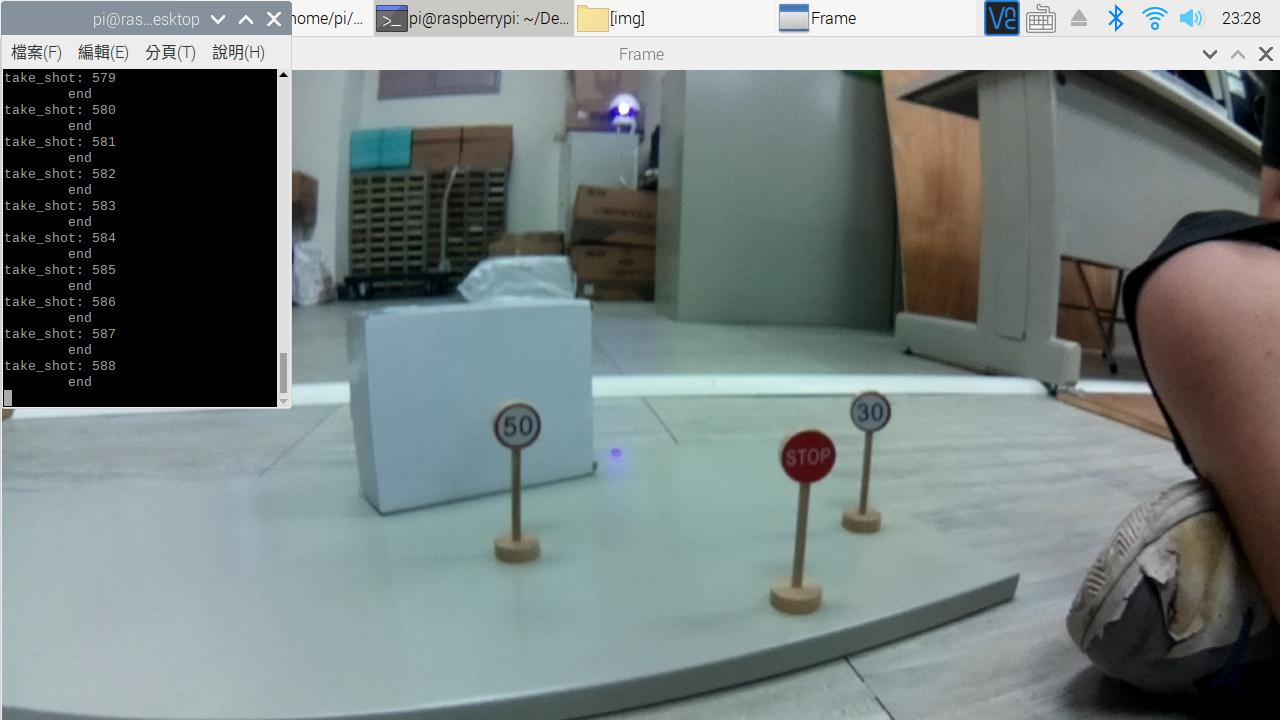Speed30: (845, 381, 896, 442)
Speed50: (487, 398, 552, 453)
Stop: (772, 417, 844, 492)
